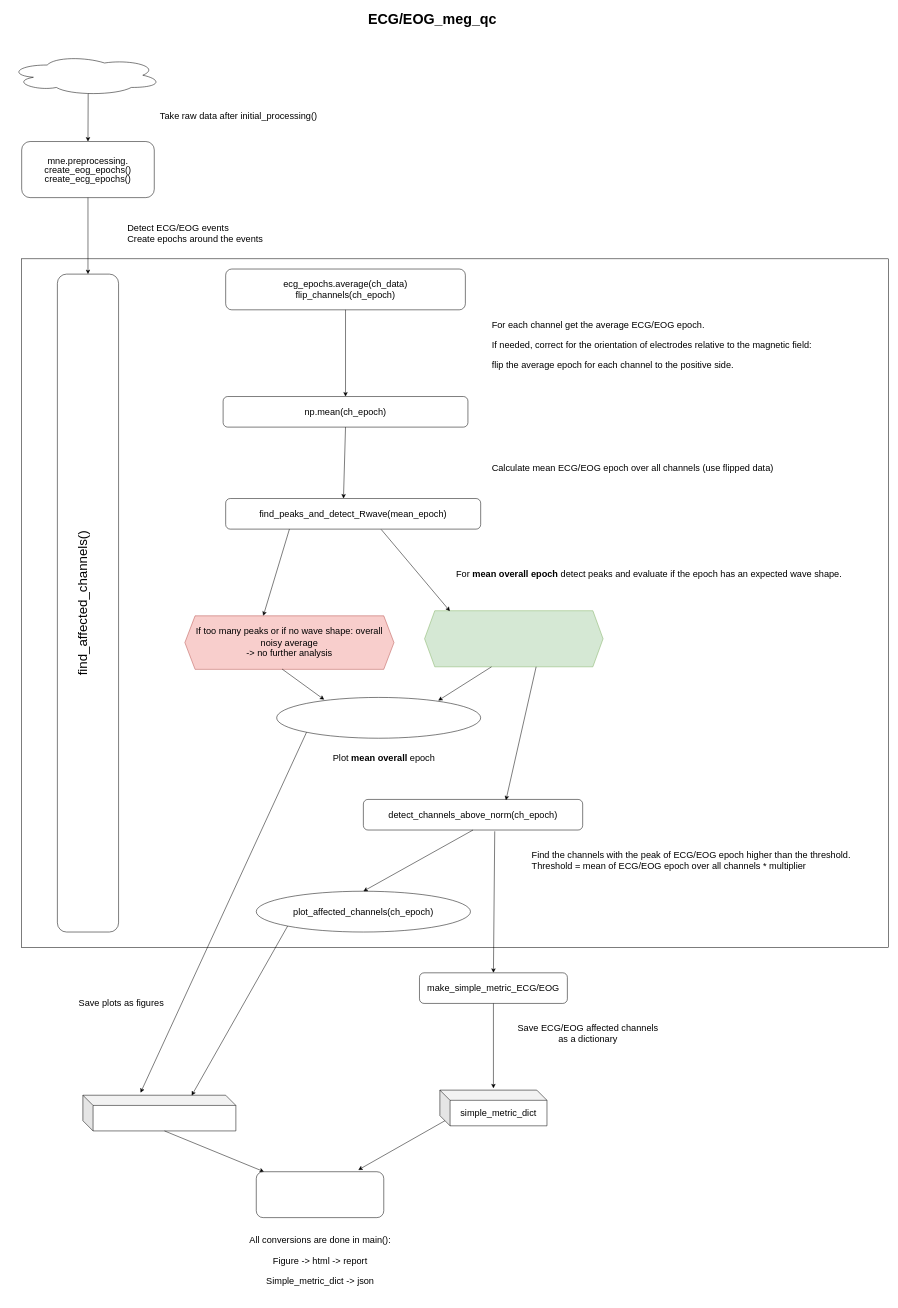
Image size: 898x1308. Some labels were removed from this diagram. Each missing label, with the box of its shape:
If few peaks and wave shape: good average -> continue: (424, 610, 603, 667)
main(): (256, 1171, 384, 1218)
plot_epoch_and_peak(mean_epoch): (276, 697, 481, 738)
QC_derivative_ECG/EOG (figures): (82, 1095, 236, 1131)
Raw data: (8, 54, 162, 96)
